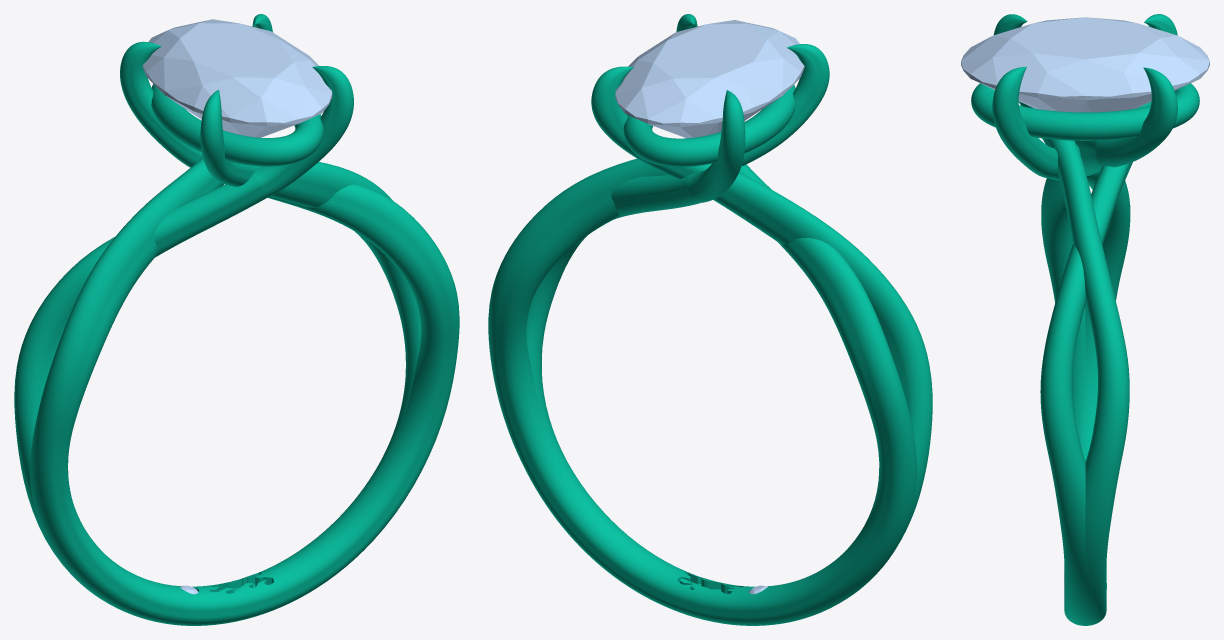
Rendered from ring10.glb.
The picture shows the model from 3 angles, left to right: view 1: azimuth 30°, elevation 25°; view 2: azimuth 150°, elevation 25°; view 3: azimuth 270°, elevation 25°; orthographic projection.
Parts seen in each view (by area): view 1: gold.3dm, Diamond_Oval; view 2: gold.3dm, Diamond_Oval; view 3: gold.3dm, Diamond_Oval.
Part boxes in pixels (<box>): gold.3dm: <box>14,14,459,625</box>; Diamond_Oval: <box>142,19,332,137</box>; gold.3dm: <box>488,14,932,625</box>; Diamond_Oval: <box>615,20,804,138</box>; gold.3dm: <box>971,14,1199,625</box>; Diamond_Oval: <box>961,17,1209,112</box>.
Bounding box in the file's own units: 2.34 × 3.01 × 1.2.
